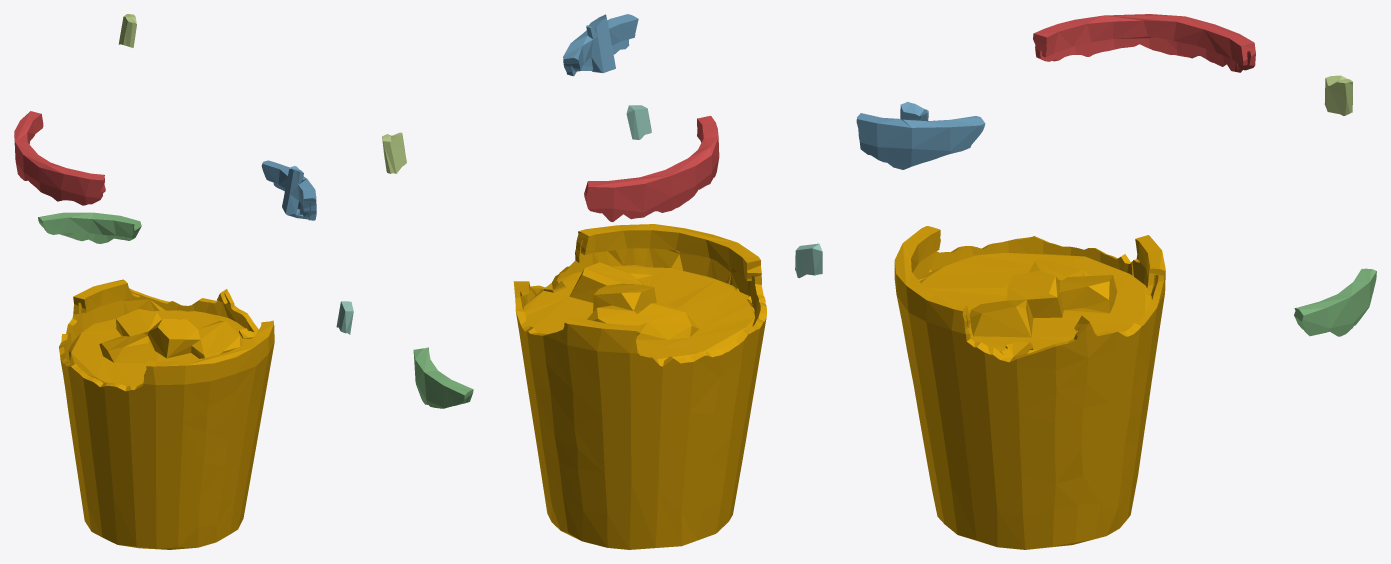
File: fractured_53_6pcs_transformed.glb
3 renders of one model, left to right at view 1: azimuth 30°, elevation 25°; view 2: azimuth 150°, elevation 25°; view 3: azimuth 270°, elevation 25°, orthographic. The views are drawn at different scales.
Visible parts, largest first — view 1: piece_0.obj, piece_1.obj, piece_3.obj, piece_2.obj, piece_5.obj, piece_4.obj; view 2: piece_0.obj, piece_1.obj, piece_2.obj, piece_3.obj, piece_5.obj, piece_4.obj; view 3: piece_0.obj, piece_1.obj, piece_2.obj, piece_3.obj, piece_5.obj, piece_4.obj.
Part boxes in pixels (left/top/right/bottom): piece_0.obj: left=59, top=279, right=274, bottom=549; piece_1.obj: left=14, top=111, right=105, bottom=205; piece_3.obj: left=38, top=212, right=141, bottom=243; piece_2.obj: left=261, top=160, right=316, bottom=220; piece_5.obj: left=118, top=14, right=136, bottom=47; piece_4.obj: left=336, top=301, right=353, bottom=334; piece_0.obj: left=513, top=224, right=766, bottom=549; piece_1.obj: left=584, top=116, right=719, bottom=221; piece_2.obj: left=563, top=14, right=638, bottom=76; piece_3.obj: left=413, top=347, right=473, bottom=408; piece_5.obj: left=382, top=132, right=406, bottom=173; piece_4.obj: left=626, top=105, right=651, bottom=139; piece_0.obj: left=894, top=226, right=1165, bottom=549; piece_1.obj: left=1033, top=14, right=1255, bottom=72; piece_2.obj: left=856, top=101, right=985, bottom=169; piece_3.obj: left=1294, top=268, right=1376, bottom=336; piece_5.obj: left=1324, top=75, right=1352, bottom=115; piece_4.obj: left=795, top=243, right=822, bottom=278.
Bounding box in the file's own units: 0.782 × 1.51 × 1.65.
